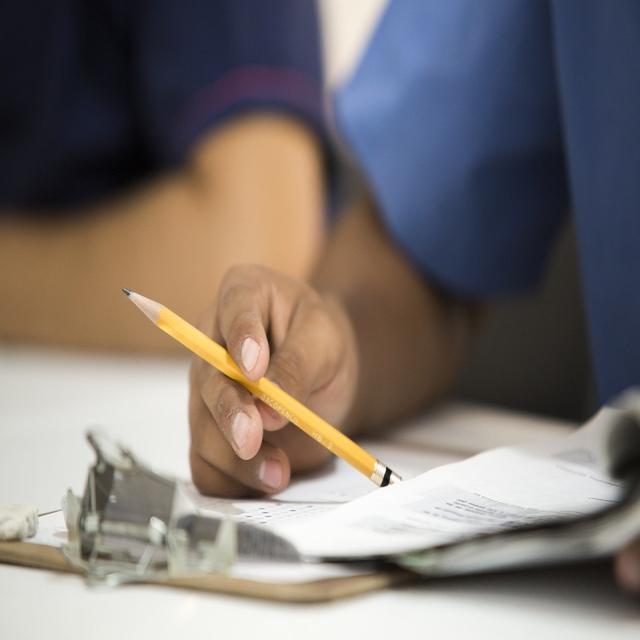pencil: (122, 287, 406, 499)
